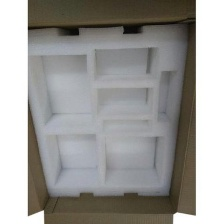foam_box: (28, 19, 191, 202)
